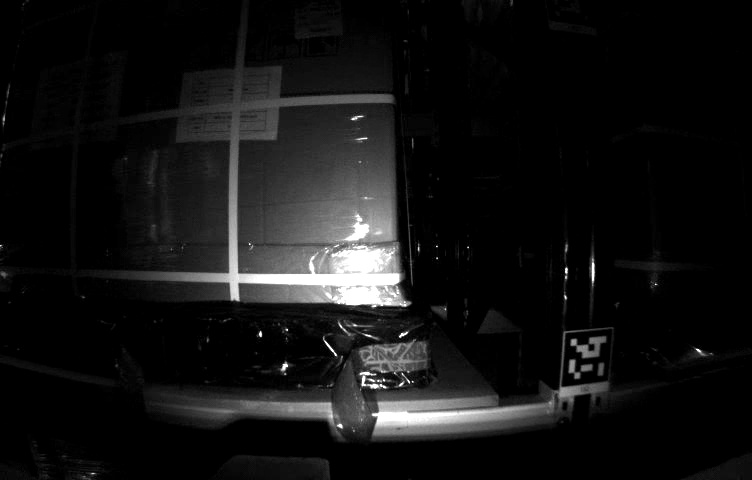True Barcode: (292, 2, 346, 35)
